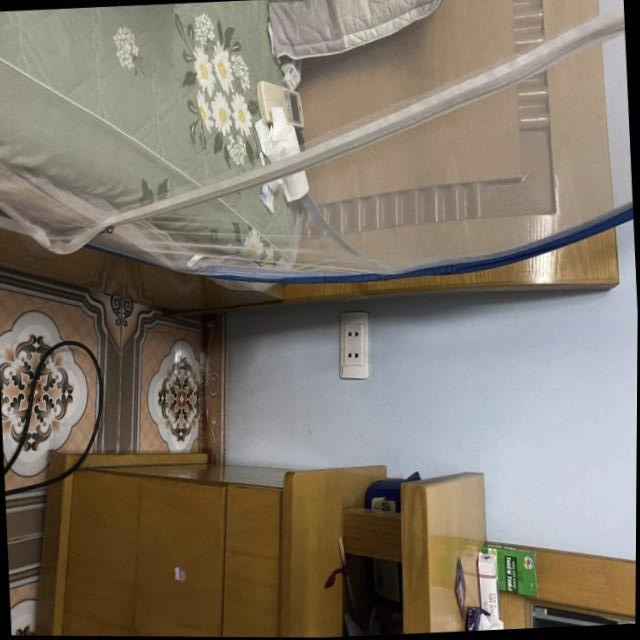outlet: (337, 310, 372, 381)
